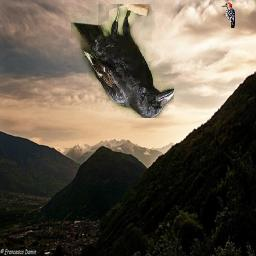Crow: (72, 4, 175, 118)
Woodpecker: (221, 2, 235, 28)
